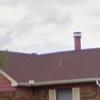Chimney: (65, 26, 89, 58)
